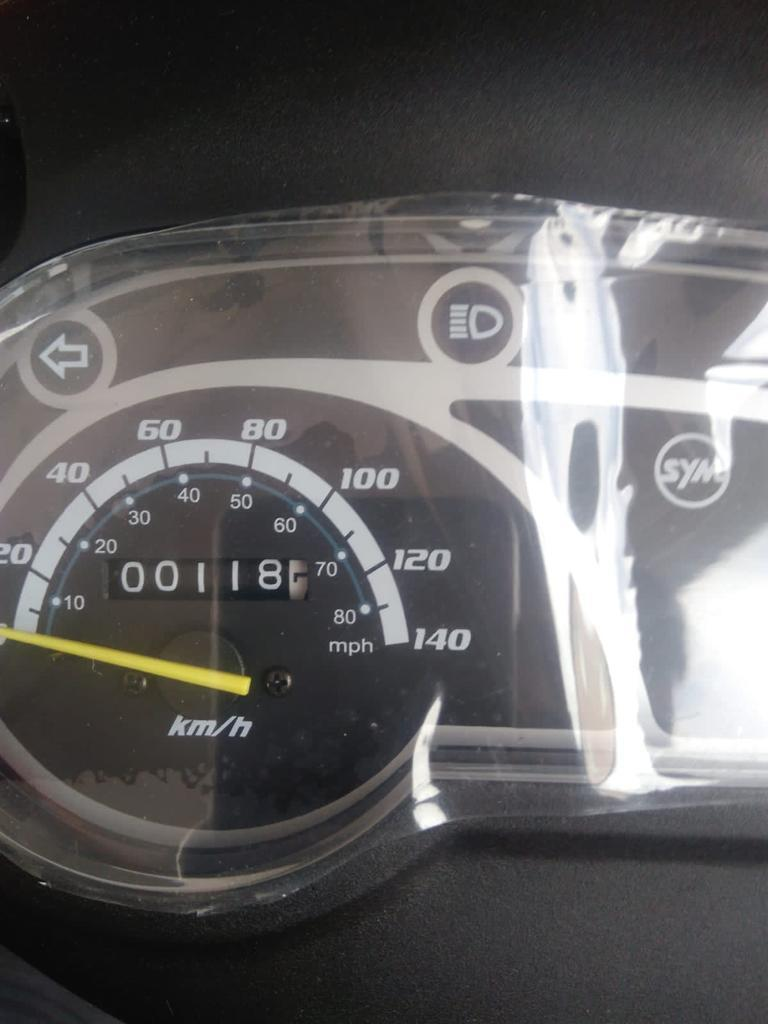0: (153, 559, 180, 592), (119, 560, 145, 594)
1: (194, 561, 206, 594), (230, 558, 240, 592)
7: (291, 571, 312, 602)
8: (256, 558, 283, 591)
odometer: (104, 556, 312, 603)
